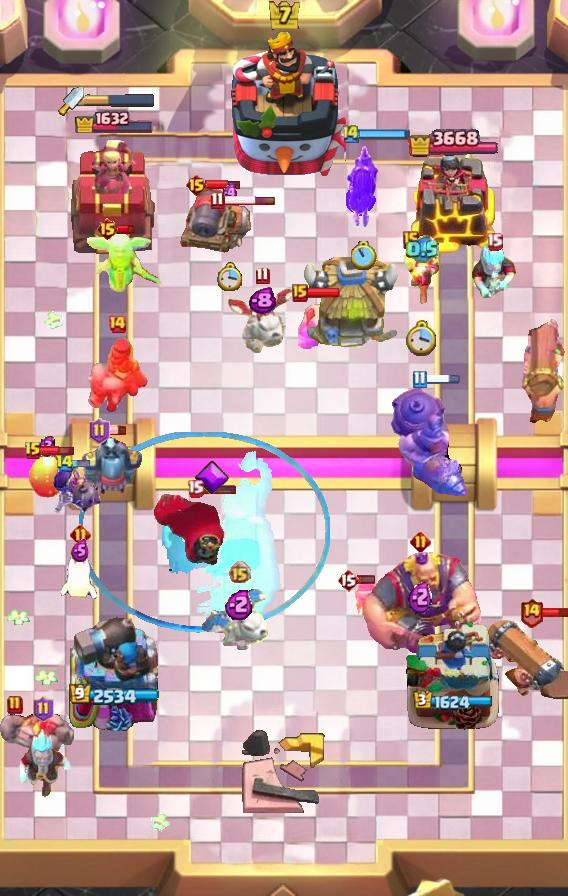bar: (70, 138, 158, 256)
bat: (59, 548, 101, 602)
battle-healer: (470, 618, 568, 700), (520, 311, 568, 425)
bowler: (401, 238, 443, 308)
electro-spirit: (406, 236, 439, 265), (225, 588, 254, 620), (408, 580, 432, 614), (248, 287, 276, 315), (71, 538, 89, 561), (38, 435, 56, 457), (221, 183, 240, 203)
elite-barbarian: (85, 336, 149, 416)
elixir: (406, 318, 439, 356), (351, 241, 377, 270), (217, 262, 243, 291)
elixir-golem-small: (80, 435, 144, 497)
emote: (359, 128, 411, 140), (222, 194, 276, 205), (425, 373, 462, 386), (205, 177, 241, 190), (41, 443, 76, 456), (305, 287, 341, 299), (201, 483, 237, 495), (540, 607, 567, 618), (116, 224, 136, 235), (108, 425, 127, 436), (356, 574, 375, 585), (71, 459, 91, 469)
executioner: (298, 297, 330, 349)
goblin: (351, 584, 379, 620)
goblin-ball: (346, 135, 382, 229), (51, 466, 105, 516)
hog: (27, 455, 67, 499)
inferno-tower: (151, 489, 257, 577)
king-tower: (222, 31, 346, 181)
king-tower-bar: (84, 93, 156, 107)
knight: (204, 204, 256, 250)
lightning: (360, 551, 481, 657)
mini-pekka: (227, 285, 297, 357), (199, 588, 279, 650)
mortar: (13, 727, 73, 797), (470, 240, 518, 300)
pad_0: (77, 432, 331, 634)
poison: (78, 225, 166, 299)
prince: (301, 257, 403, 353)
queen-tower: (404, 617, 502, 731), (408, 154, 498, 256)
royal-giant-evolution: (177, 186, 239, 256)
selected: (408, 126, 498, 161), (68, 685, 159, 708), (73, 108, 154, 133), (413, 689, 493, 711)
skeleton-king-skill: (194, 460, 230, 496)
text: (520, 597, 545, 628), (184, 173, 207, 197), (97, 217, 120, 241), (228, 560, 251, 584), (89, 418, 110, 444), (34, 696, 55, 722), (337, 568, 359, 592), (69, 523, 91, 545), (410, 532, 431, 553), (341, 124, 361, 145), (107, 314, 127, 334), (24, 441, 42, 461), (54, 455, 74, 473), (485, 232, 502, 251), (7, 695, 23, 715), (187, 479, 204, 497), (403, 231, 419, 249), (292, 284, 308, 302), (255, 267, 270, 286), (413, 371, 428, 389), (211, 190, 225, 209)
tower-bar: (68, 611, 160, 731)
valkyrie-evolution: (0, 711, 74, 773)
wizard: (388, 385, 470, 499)
